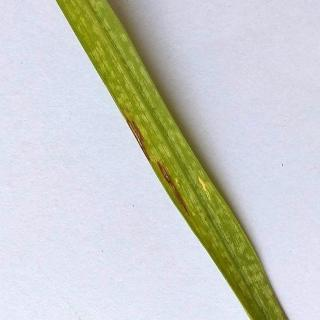Blast: (122, 105, 205, 238)
